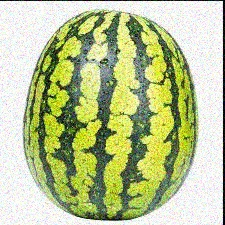watermelon: (24, 8, 196, 221)
